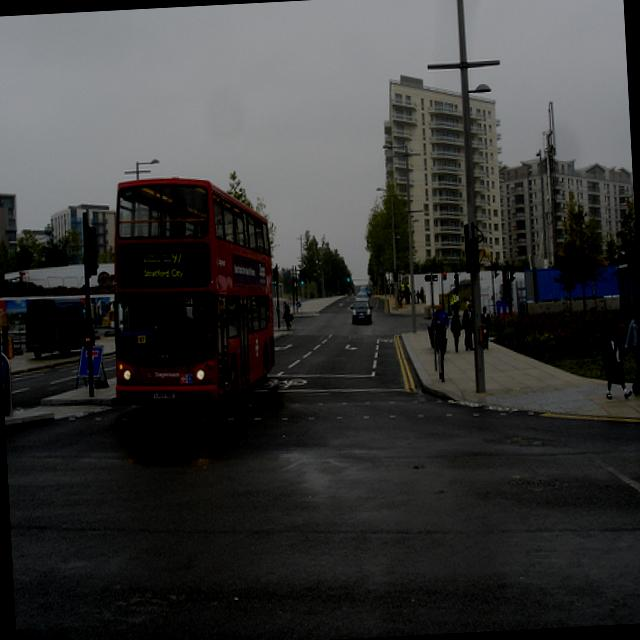Vehicle: (103, 173, 281, 410), (351, 296, 374, 326), (357, 292, 369, 298)
